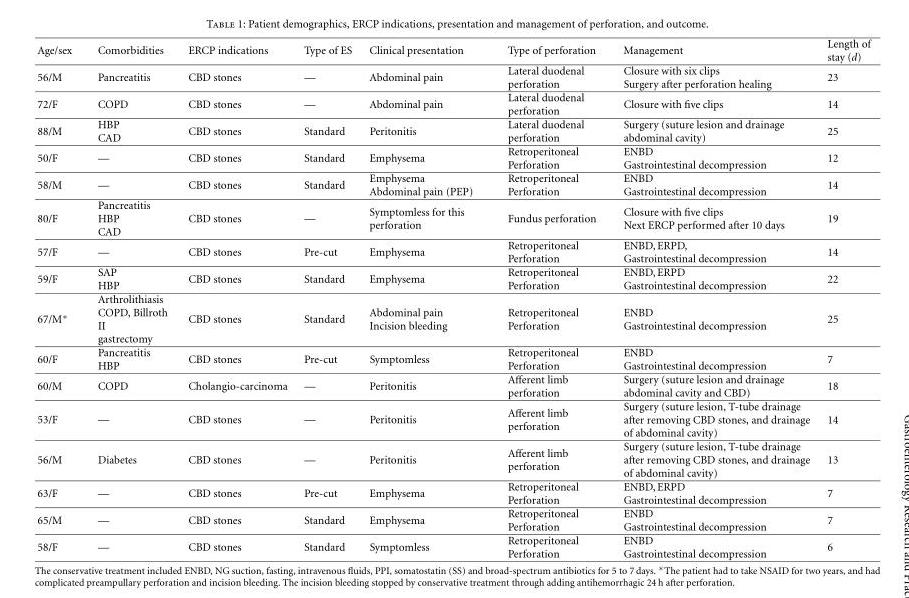table: (37, 37, 870, 559)
table column: (609, 37, 818, 559), (360, 37, 490, 559), (490, 37, 609, 559), (178, 37, 295, 559), (85, 37, 178, 559), (295, 37, 360, 559), (818, 37, 870, 559), (37, 37, 85, 559)
table column header: (37, 37, 870, 63)
table row: (37, 291, 870, 345), (37, 197, 870, 238), (37, 399, 870, 439), (37, 439, 870, 479), (37, 63, 870, 90), (37, 90, 870, 117), (37, 117, 870, 144), (37, 144, 870, 171), (37, 238, 870, 265), (37, 345, 870, 372), (37, 372, 870, 399), (37, 479, 870, 506), (37, 506, 870, 533), (37, 37, 870, 63), (37, 171, 870, 197), (37, 265, 870, 291), (37, 533, 870, 559)
